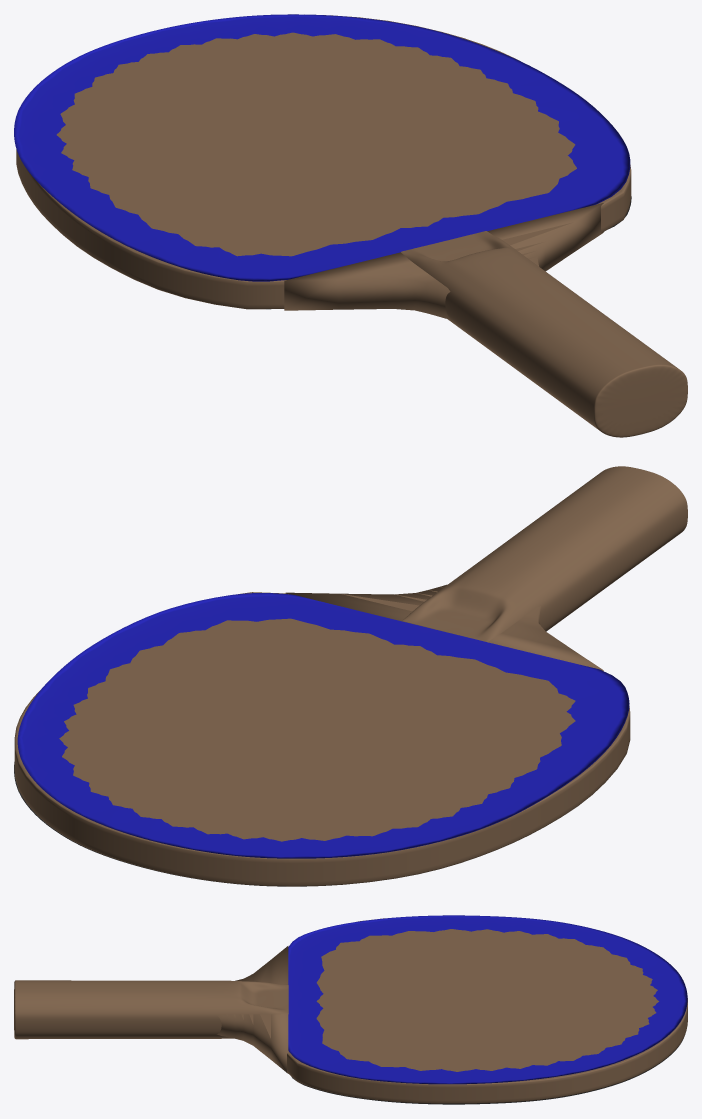
File: raquet_02.glb
3 views of the same model, one above another, from view 1: azimuth 30°, elevation 25°; view 2: azimuth 150°, elevation 25°; view 3: azimuth 270°, elevation 25° (orthographic). The views are drawn at different scales.
Parts seen in each view (by area): view 1: raquet.001; view 2: raquet.001; view 3: raquet.001.
Boxes of the visible parts, left/top/right/bottom form: raquet.001: left=14, top=14, right=687, bottom=437; raquet.001: left=14, top=466, right=687, bottom=886; raquet.001: left=14, top=915, right=687, bottom=1104.
Size of the model in its own units: 0.2739 by 0.0346 by 0.4599.
